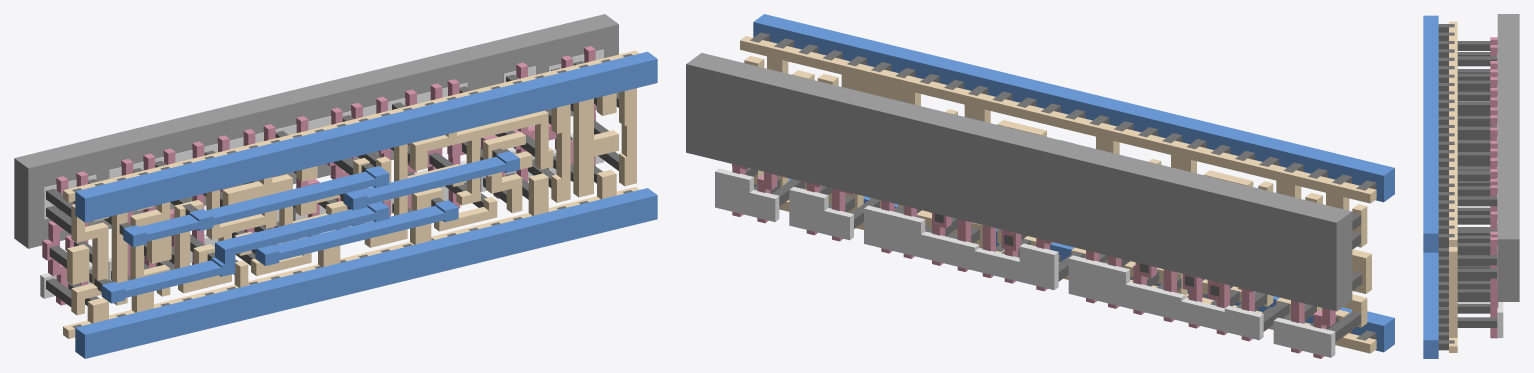
File: sky130_fd_sc_hd__dfbbn_1.gds.gltf
3 views of the same model, side by side, from view 1: azimuth 30°, elevation 25°; view 2: azimuth 150°, elevation 25°; view 3: azimuth 270°, elevation 25° (orthographic). The views are drawn at different scales.
Parts seen in each view (by area): view 1: sky130_fd_sc_hd__dfbbn_1_met1, sky130_fd_sc_hd__dfbbn_1_li1, sky130_fd_sc_hd__dfbbn_1_nwell, sky130_fd_sc_hd__dfbbn_1_poly, sky130_fd_sc_hd__dfbbn_1_licon, sky130_fd_sc_hd__dfbbn_1_diff, sky130_fd_sc_hd__dfbbn_1_mcon; view 2: sky130_fd_sc_hd__dfbbn_1_nwell, sky130_fd_sc_hd__dfbbn_1_diff, sky130_fd_sc_hd__dfbbn_1_li1, sky130_fd_sc_hd__dfbbn_1_met1, sky130_fd_sc_hd__dfbbn_1_poly, sky130_fd_sc_hd__dfbbn_1_licon, sky130_fd_sc_hd__dfbbn_1_mcon; view 3: sky130_fd_sc_hd__dfbbn_1_licon, sky130_fd_sc_hd__dfbbn_1_nwell, sky130_fd_sc_hd__dfbbn_1_met1, sky130_fd_sc_hd__dfbbn_1_mcon, sky130_fd_sc_hd__dfbbn_1_li1, sky130_fd_sc_hd__dfbbn_1_poly, sky130_fd_sc_hd__dfbbn_1_diff.
Part boxes in pixels (bbox=[...]): sky130_fd_sc_hd__dfbbn_1_met1: bbox=[75, 51, 657, 358]; sky130_fd_sc_hd__dfbbn_1_li1: bbox=[63, 50, 639, 338]; sky130_fd_sc_hd__dfbbn_1_nwell: bbox=[14, 14, 618, 248]; sky130_fd_sc_hd__dfbbn_1_poly: bbox=[42, 46, 595, 305]; sky130_fd_sc_hd__dfbbn_1_licon: bbox=[46, 61, 618, 306]; sky130_fd_sc_hd__dfbbn_1_diff: bbox=[40, 49, 603, 298]; sky130_fd_sc_hd__dfbbn_1_mcon: bbox=[72, 53, 632, 328]; sky130_fd_sc_hd__dfbbn_1_nwell: bbox=[686, 53, 1352, 311]; sky130_fd_sc_hd__dfbbn_1_diff: bbox=[715, 168, 1335, 357]; sky130_fd_sc_hd__dfbbn_1_li1: bbox=[740, 36, 1376, 353]; sky130_fd_sc_hd__dfbbn_1_met1: bbox=[753, 14, 1394, 352]; sky130_fd_sc_hd__dfbbn_1_poly: bbox=[732, 164, 1335, 358]; sky130_fd_sc_hd__dfbbn_1_licon: bbox=[745, 87, 1362, 341]; sky130_fd_sc_hd__dfbbn_1_mcon: bbox=[750, 32, 1376, 340]; sky130_fd_sc_hd__dfbbn_1_licon: bbox=[1457, 41, 1497, 327]; sky130_fd_sc_hd__dfbbn_1_nwell: bbox=[1497, 14, 1519, 301]; sky130_fd_sc_hd__dfbbn_1_met1: bbox=[1423, 15, 1438, 358]; sky130_fd_sc_hd__dfbbn_1_mcon: bbox=[1438, 24, 1454, 350]; sky130_fd_sc_hd__dfbbn_1_li1: bbox=[1449, 21, 1457, 352]; sky130_fd_sc_hd__dfbbn_1_poly: bbox=[1490, 37, 1498, 338]; sky130_fd_sc_hd__dfbbn_1_diff: bbox=[1497, 53, 1503, 337].
Bounding box in the file's own units: 12.34 × 3.2 × 2.24.
